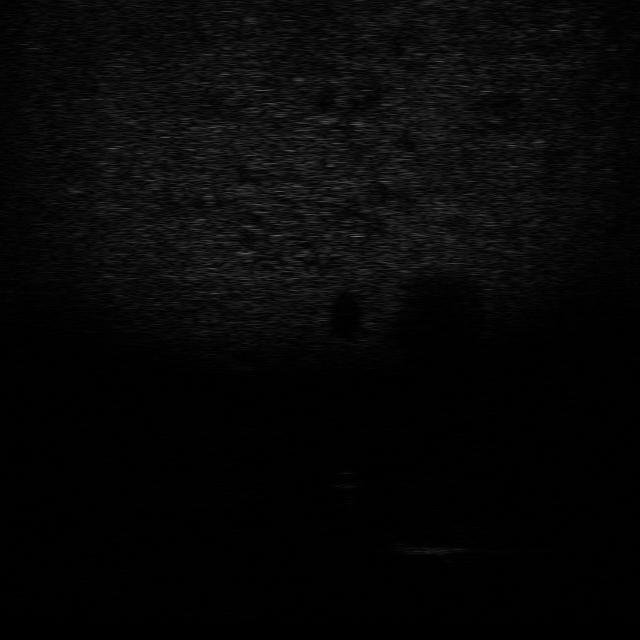ball: (321, 466, 369, 491)
metal bucket: (390, 533, 474, 563)
tyre: (422, 511, 492, 540)
